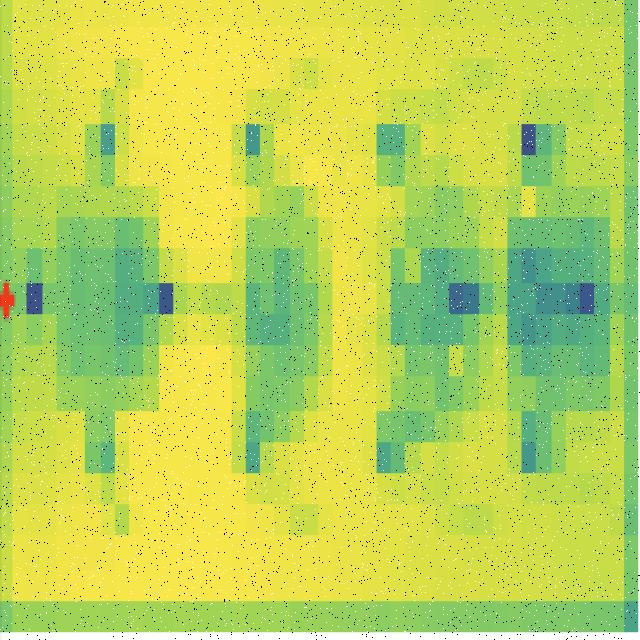Concrete: (380, 188, 485, 439)
Glass: (235, 196, 328, 438)
Metal: (507, 218, 612, 410)
Wood: (56, 187, 160, 408)
